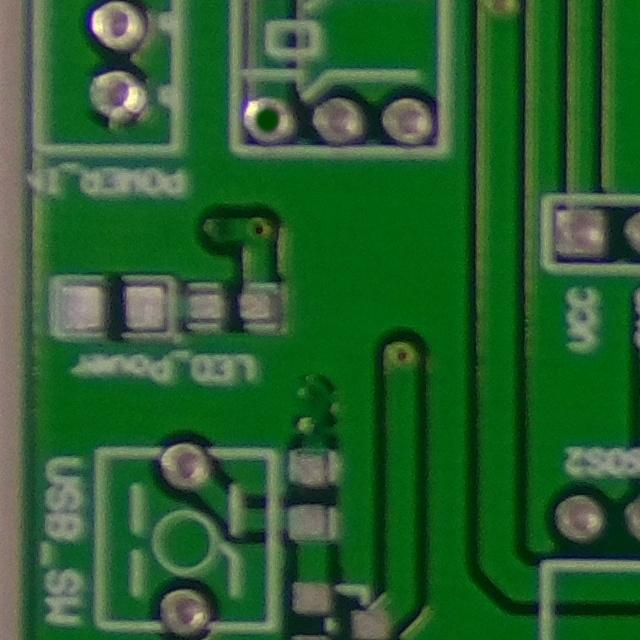missing_hole: (238, 93, 304, 147)
